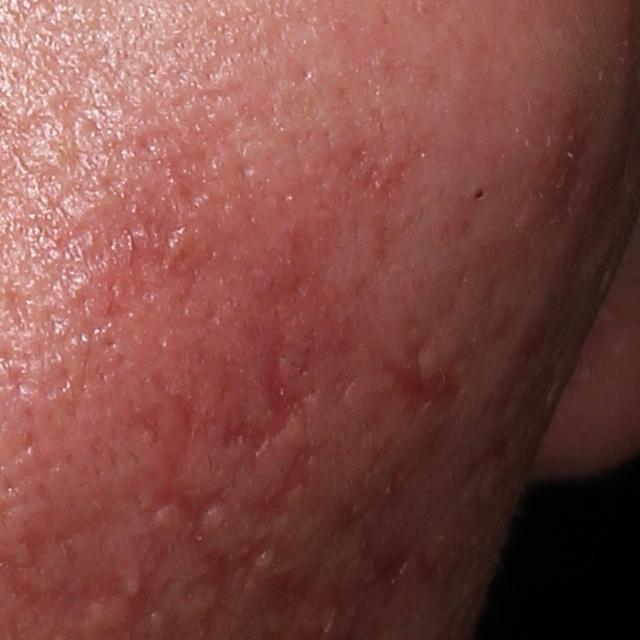atrophic_scar: (146, 392, 232, 547), (221, 338, 316, 452), (182, 534, 274, 640), (236, 439, 325, 523), (377, 325, 459, 413), (246, 572, 330, 622), (368, 530, 430, 587)
comedo: (464, 183, 488, 208)
hypertrophic_scar: (150, 503, 190, 532), (201, 504, 231, 536), (120, 571, 143, 600)
